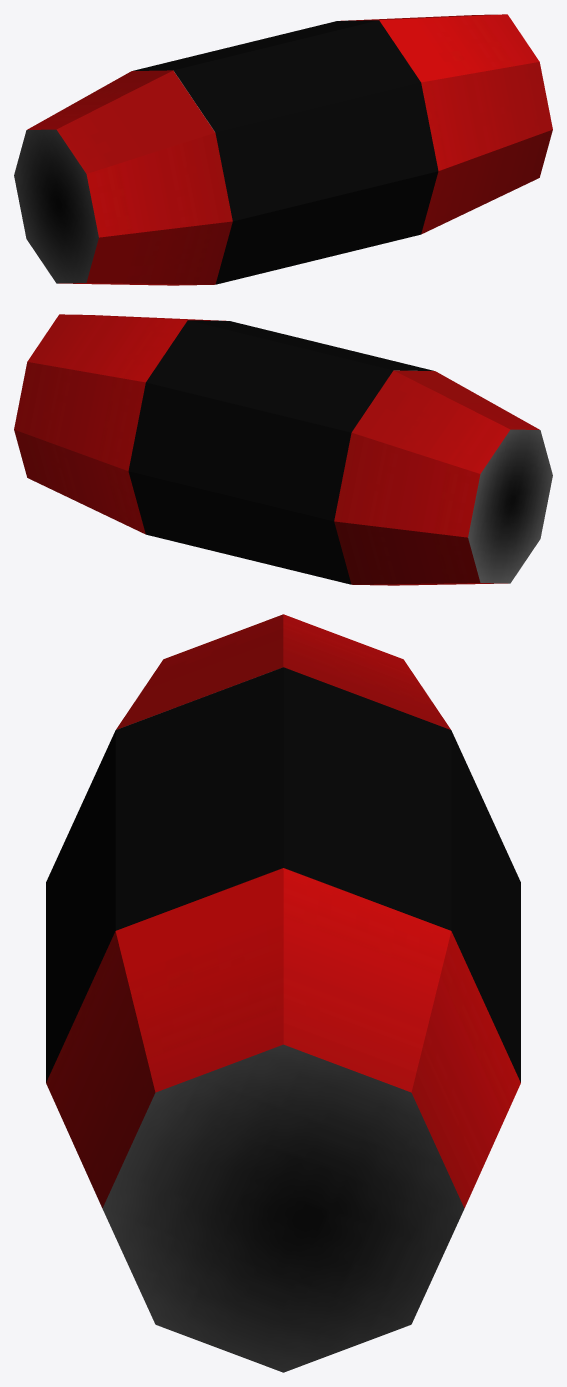
The model's file is bulletGrenade.fbx.
The picture shows the model from 3 angles, top to bottom: view 1: azimuth 30°, elevation 25°; view 2: azimuth 150°, elevation 25°; view 3: azimuth 270°, elevation 25°; orthographic projection. The views are drawn at different scales.
Visible parts, largest first — view 1: Цилиндр; view 2: Цилиндр; view 3: Цилиндр.
Boxes of the visible parts, left/top/right/bottom form: Цилиндр: left=14, top=14, right=552, bottom=285; Цилиндр: left=14, top=314, right=552, bottom=585; Цилиндр: left=46, top=614, right=520, bottom=1372.
Bounding box in the file's own units: 4.39 × 2 × 2.
